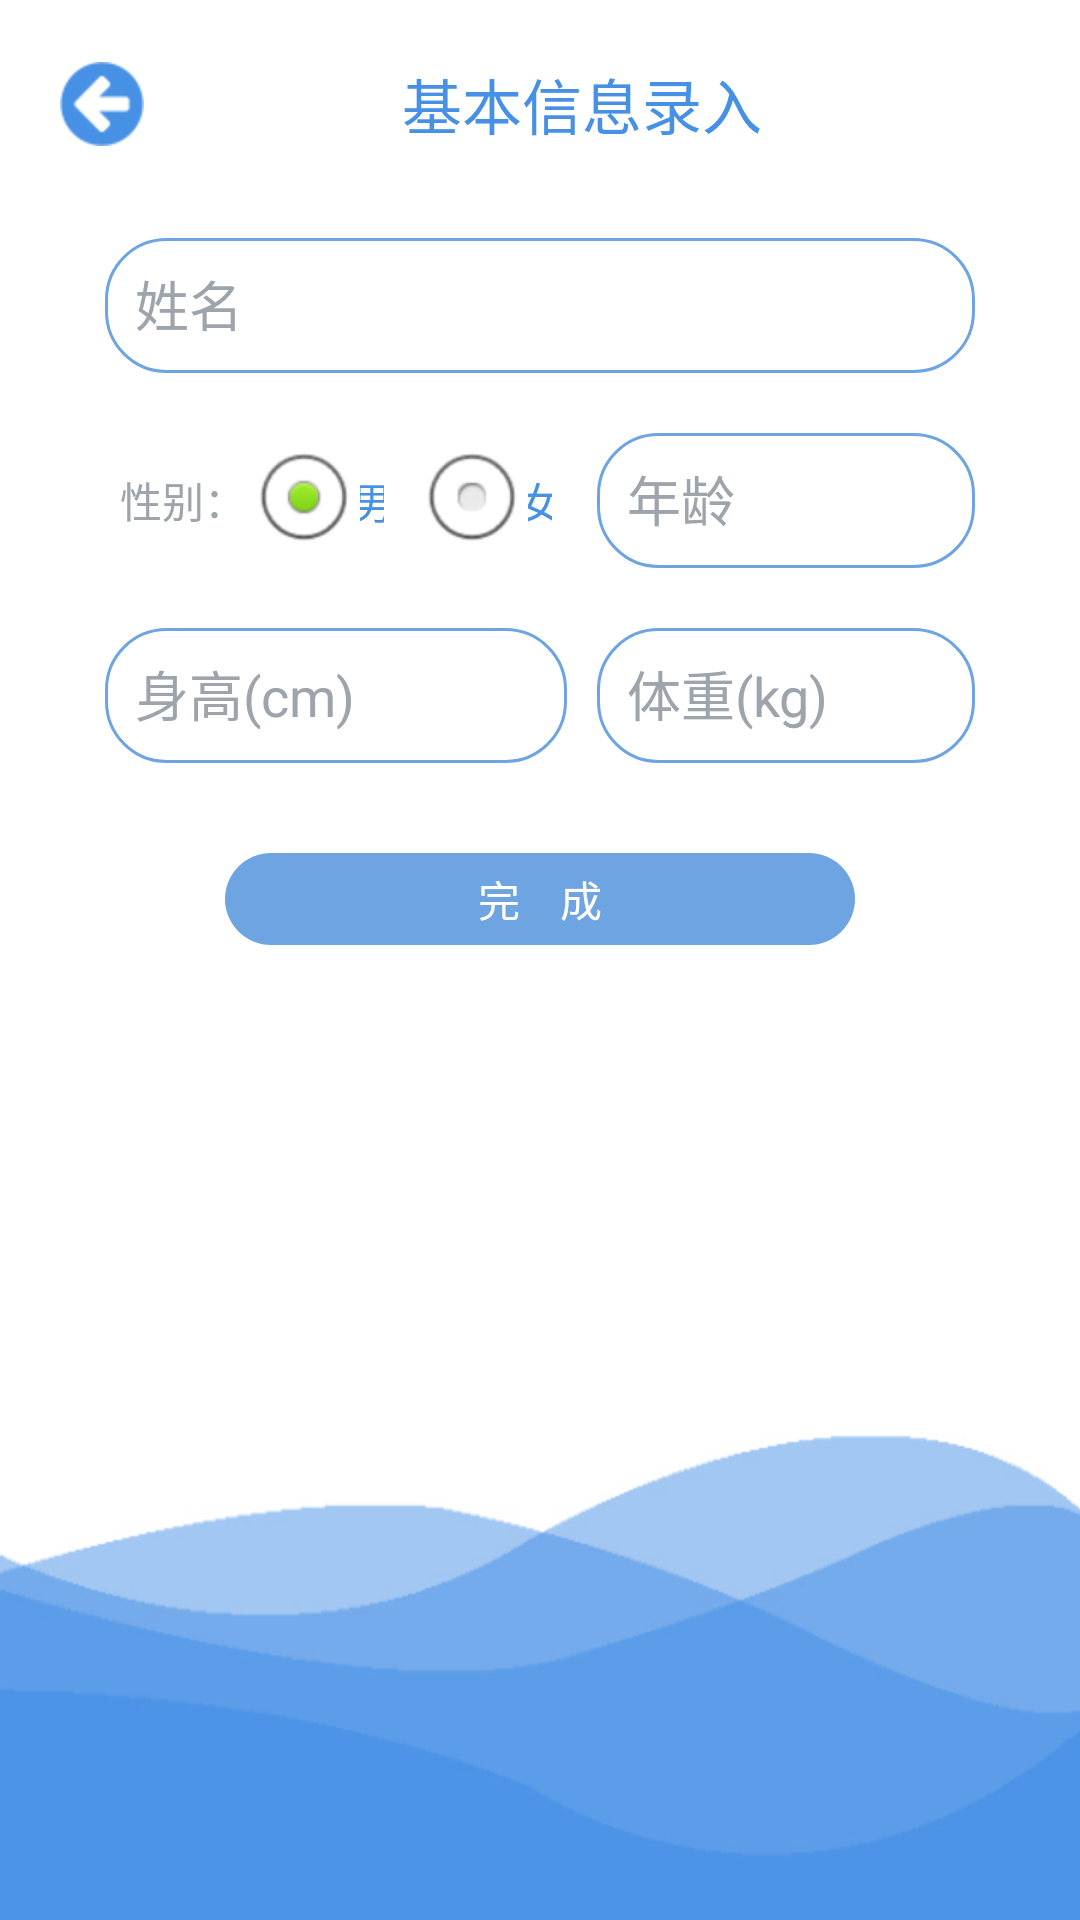

Named icons in this screenshot (1080×1920) and their bounding boxes, (x1, y1, x2, y2):
register return: (60, 62, 144, 146)
